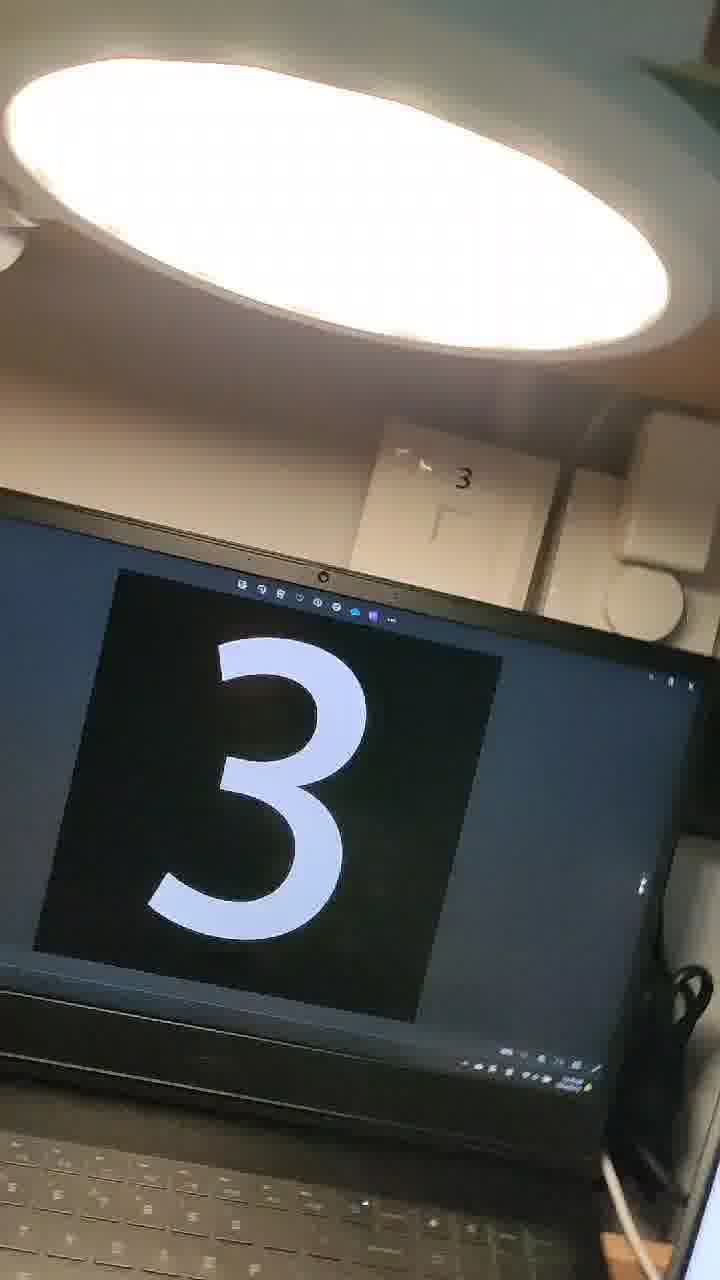three: (121, 600, 428, 1123)
